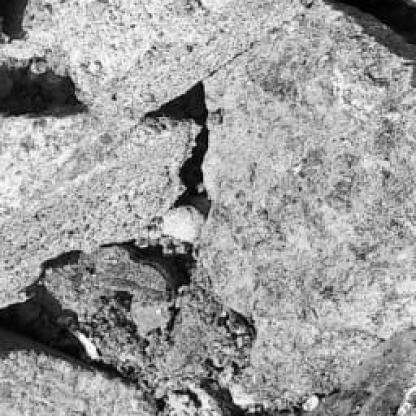cementitious_debris: (2, 1, 414, 414)
